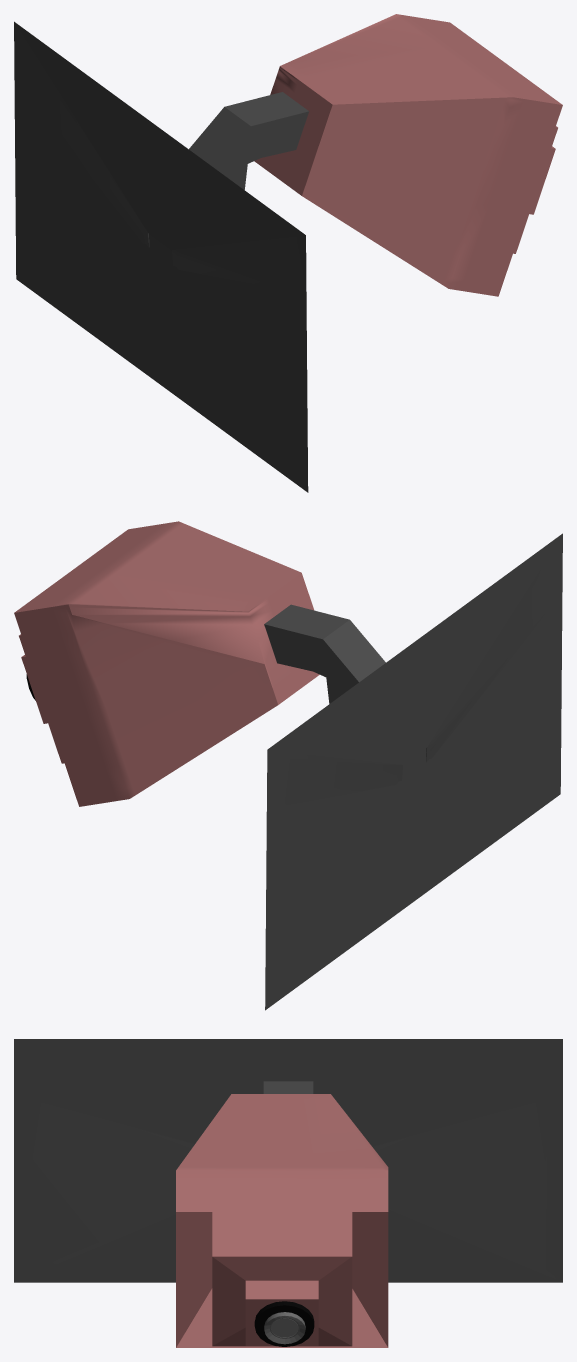
File: camera.obj
3 views of the same model, one above another, from view 1: azimuth 30°, elevation 25°; view 2: azimuth 150°, elevation 25°; view 3: azimuth 270°, elevation 25° (orthographic). The views are drawn at different scales.
Parts seen in each view (by area): view 1: polySurface14_Untitled, polySurface14_Untitled.001; view 2: polySurface14_Untitled, polySurface14_Untitled.001; view 3: polySurface14_Untitled, polySurface14_Untitled.001, polySurface14_Untitled.002, polySurface14_Untitled.003, polySurface14_Untitled.004.
Part boxes in pixels (<box>): polySurface14_Untitled: <box>14,21,308,492</box>; polySurface14_Untitled.001: <box>254,14,562,296</box>; polySurface14_Untitled: <box>264,533,562,1010</box>; polySurface14_Untitled.001: <box>14,521,319,806</box>; polySurface14_Untitled: <box>14,1039,562,1282</box>; polySurface14_Untitled.001: <box>176,1094,388,1347</box>; polySurface14_Untitled.002: <box>254,1301,314,1346</box>; polySurface14_Untitled.003: <box>264,1312,305,1344</box>; polySurface14_Untitled.004: <box>271,1318,298,1337</box>.
Size of the model in its own units: 74.86 by 50.89 by 100.
